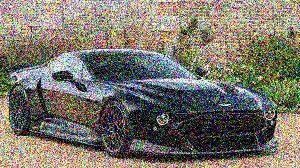car: (5, 44, 285, 161)
